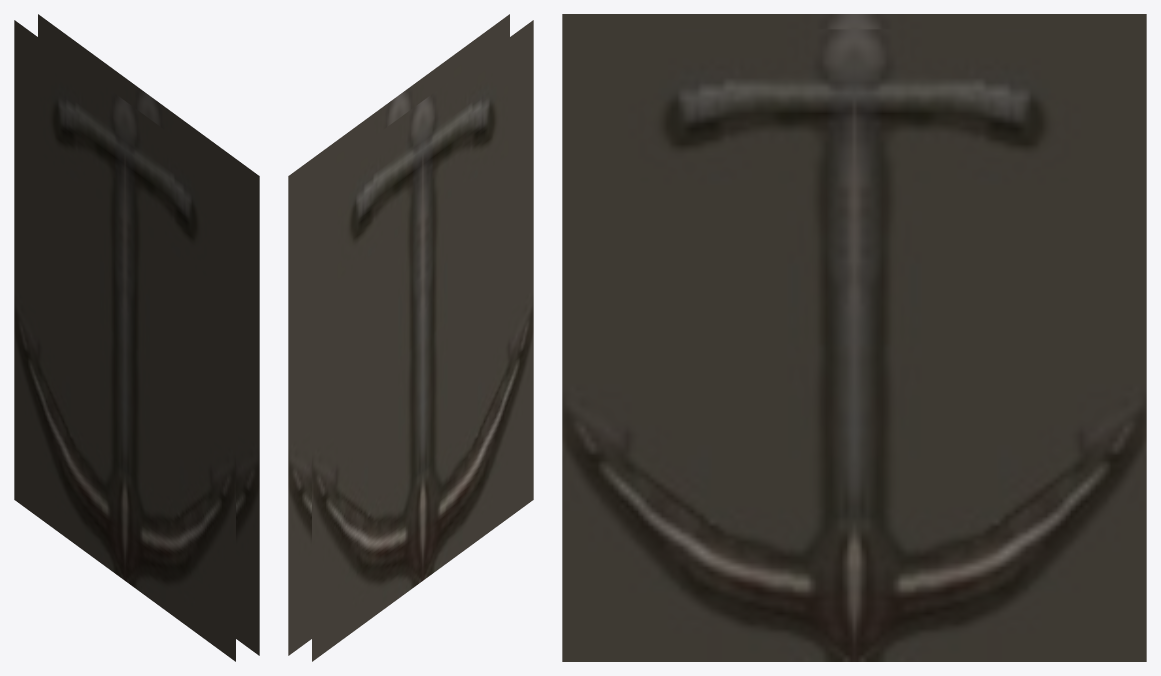
Rendered from sign1_spanish_c_icon_shipwright.fbx.
3 renders of one model, left to right at view 1: azimuth 30°, elevation 25°; view 2: azimuth 150°, elevation 25°; view 3: azimuth 270°, elevation 25°, orthographic. The views are drawn at different scales.
Visible parts, largest first — view 1: icons; view 2: icons; view 3: icons.
Part boxes in pixels (box(x1,y1,x2,y2)): icons: box(14, 14, 259, 661); icons: box(288, 14, 533, 661); icons: box(562, 14, 1146, 661).
Bounding box in the file's own units: 16.67 × 321 × 269.
1 material, 1 textured.
